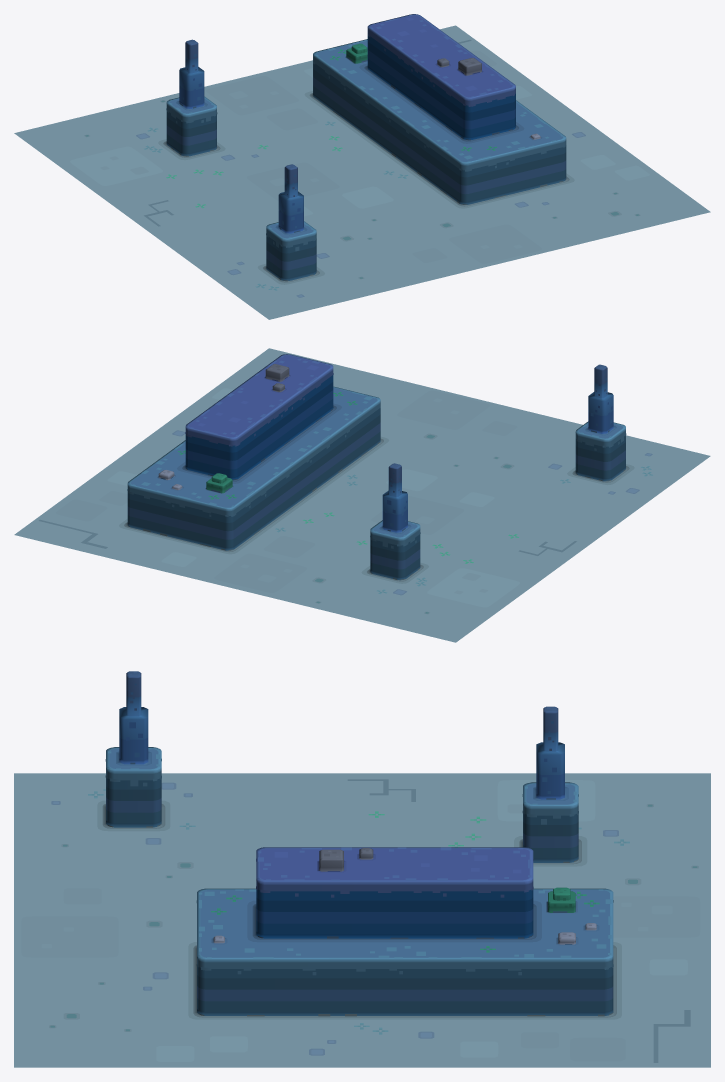
The model's file is C_mountain2_04.fbx.
3 renders of one model, top to bottom at view 1: azimuth 30°, elevation 25°; view 2: azimuth 150°, elevation 25°; view 3: azimuth 270°, elevation 25°, orthographic. The views are drawn at different scales.
Parts seen in each view (by area): view 1: C_mountain2_04; view 2: C_mountain2_04; view 3: C_mountain2_04.
Part boxes in pixels (left/top/right/bottom): C_mountain2_04: left=14, top=14, right=710, bottom=319; C_mountain2_04: left=14, top=348, right=710, bottom=642; C_mountain2_04: left=14, top=671, right=710, bottom=1067.
Size of the model in its own units: 50 by 11.39 by 50.
